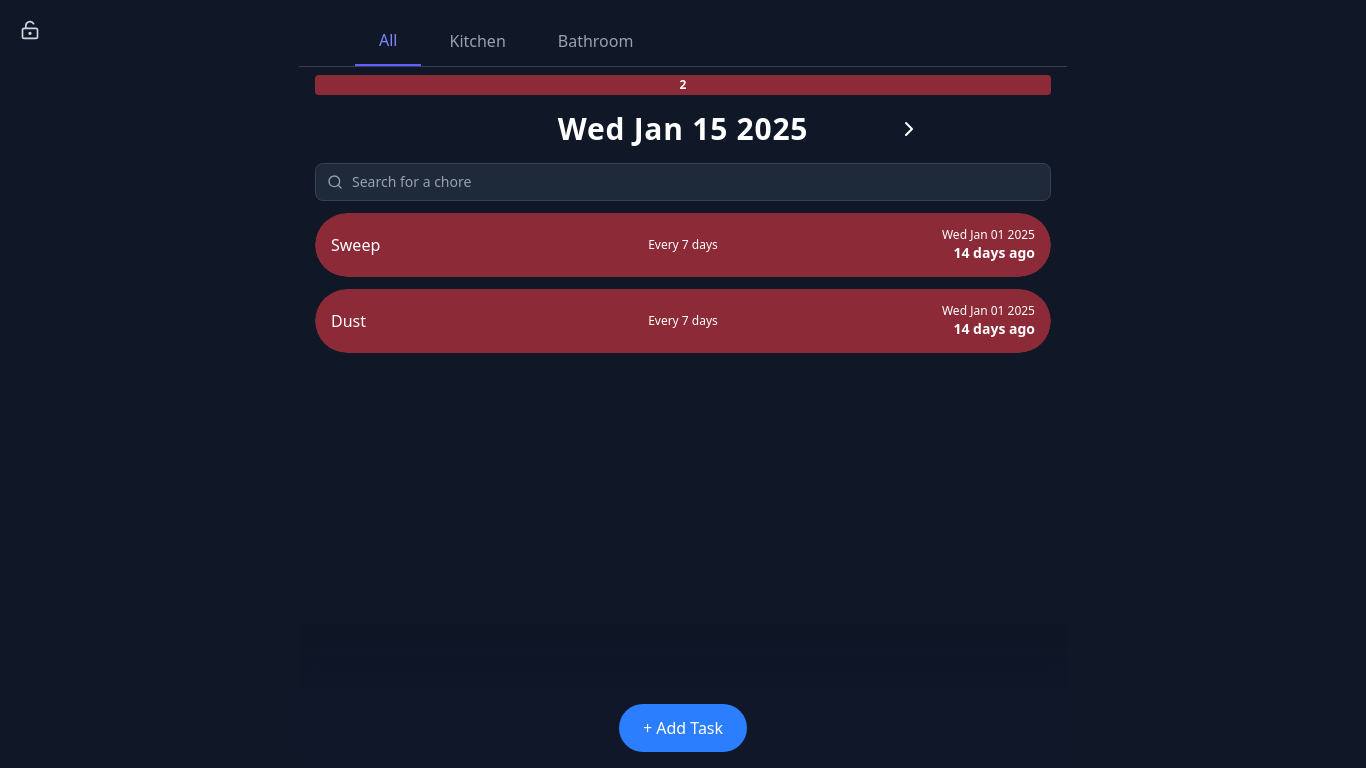
screen blank overlay wiring › the room filter still works when not blanked
Check: the text "Sweep" is shown, box [331,234,380,256]
Click the button "Kitchen" at (478,41), box [426,16,530,66]
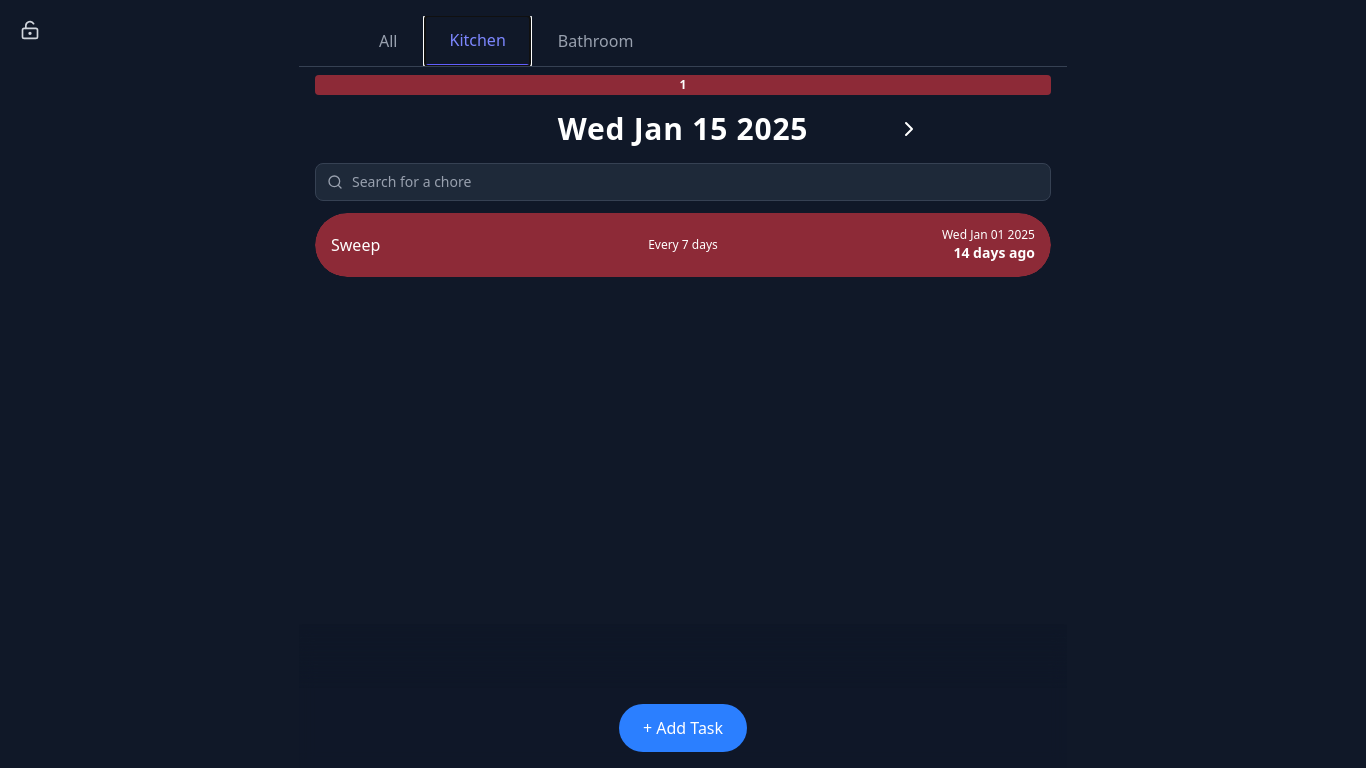
Check: the text "Sweep" is shown, box [331,234,380,256]
Check: the text "Dust" is gone
